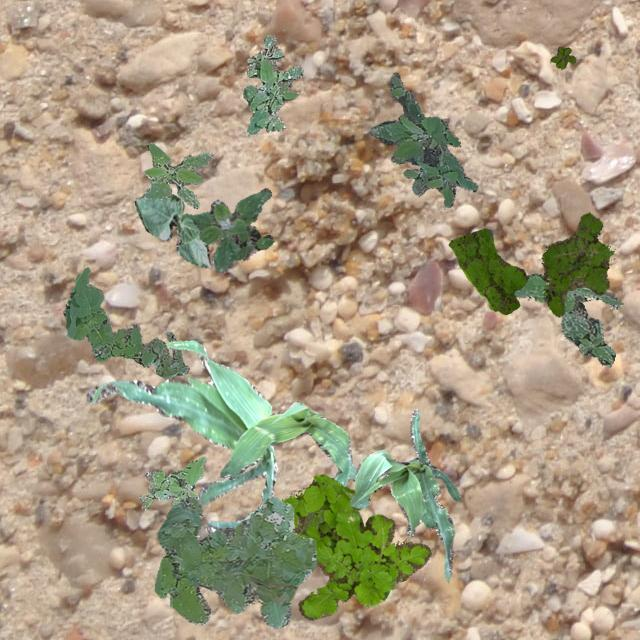crop: (86, 340, 276, 532), (348, 408, 459, 580), (218, 400, 356, 486), (133, 192, 210, 266)
weed: (280, 474, 430, 618), (154, 497, 316, 628), (368, 72, 476, 206), (62, 266, 188, 378), (512, 272, 622, 366), (180, 188, 272, 272), (540, 212, 612, 316), (448, 228, 526, 314), (242, 33, 302, 134), (142, 142, 212, 208), (138, 456, 204, 508), (550, 46, 574, 68)
